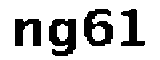1: (118, 6, 150, 50)
6: (84, 3, 113, 47)
g: (45, 17, 82, 60)
n: (11, 16, 44, 52)
